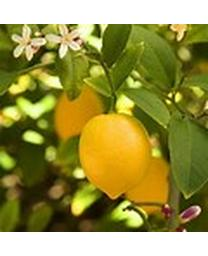lemon: (79, 112, 152, 199)
